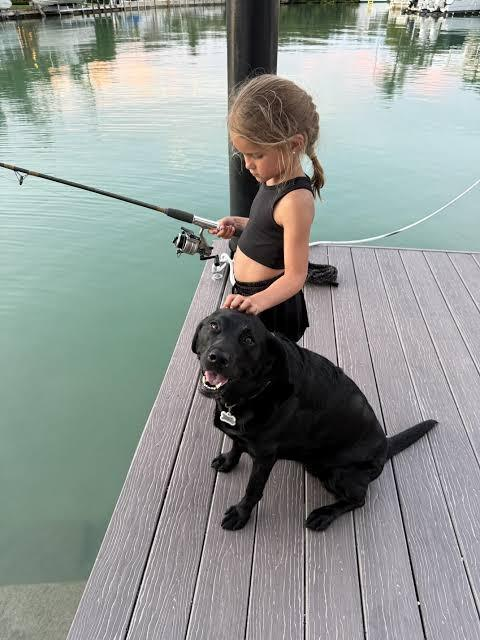adult_dog: (188, 305, 439, 537)
non-dog: (212, 74, 325, 344)
